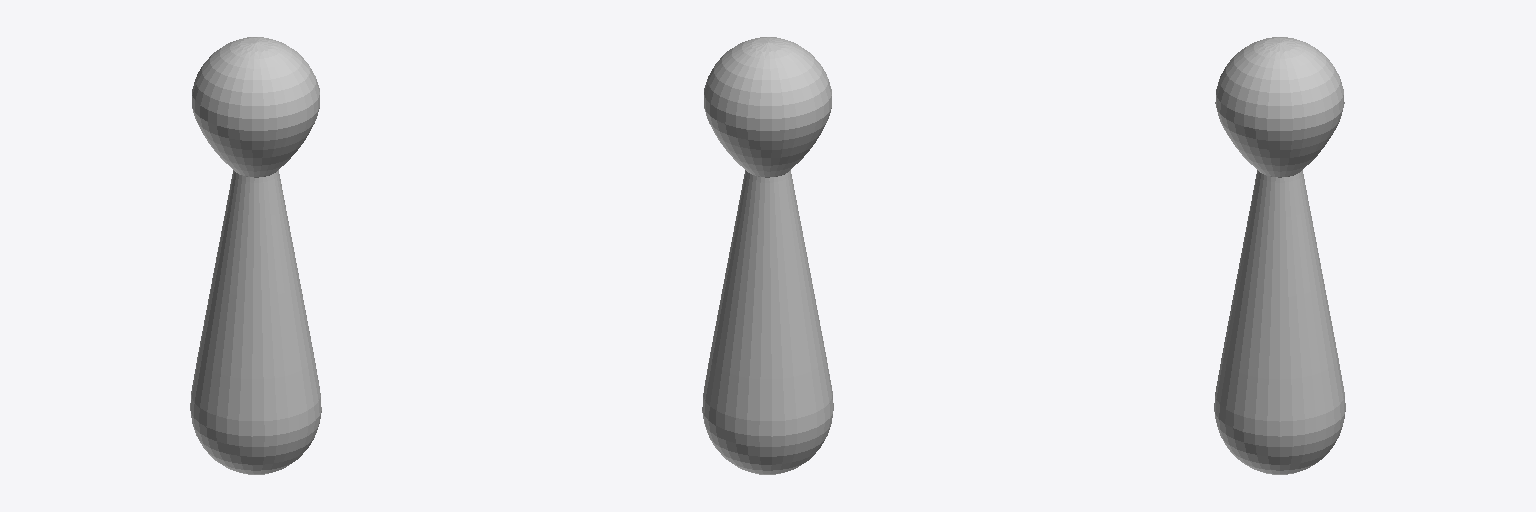
Rendered from reference.obj.
3 views of the same model, side by side, from view 1: azimuth 30°, elevation 25°; view 2: azimuth 150°, elevation 25°; view 3: azimuth 270°, elevation 25° (orthographic).
Parts seen in each view (by area): view 1: Cube.030; view 2: Cube.030; view 3: Cube.030.
Boxes of the visible parts, <box> form: Cube.030: <box>190,37,321,474</box>; Cube.030: <box>702,37,833,474</box>; Cube.030: <box>1214,37,1345,474</box>.
Bounding box in the file's own units: 0.4747 × 1.7 × 0.4747.